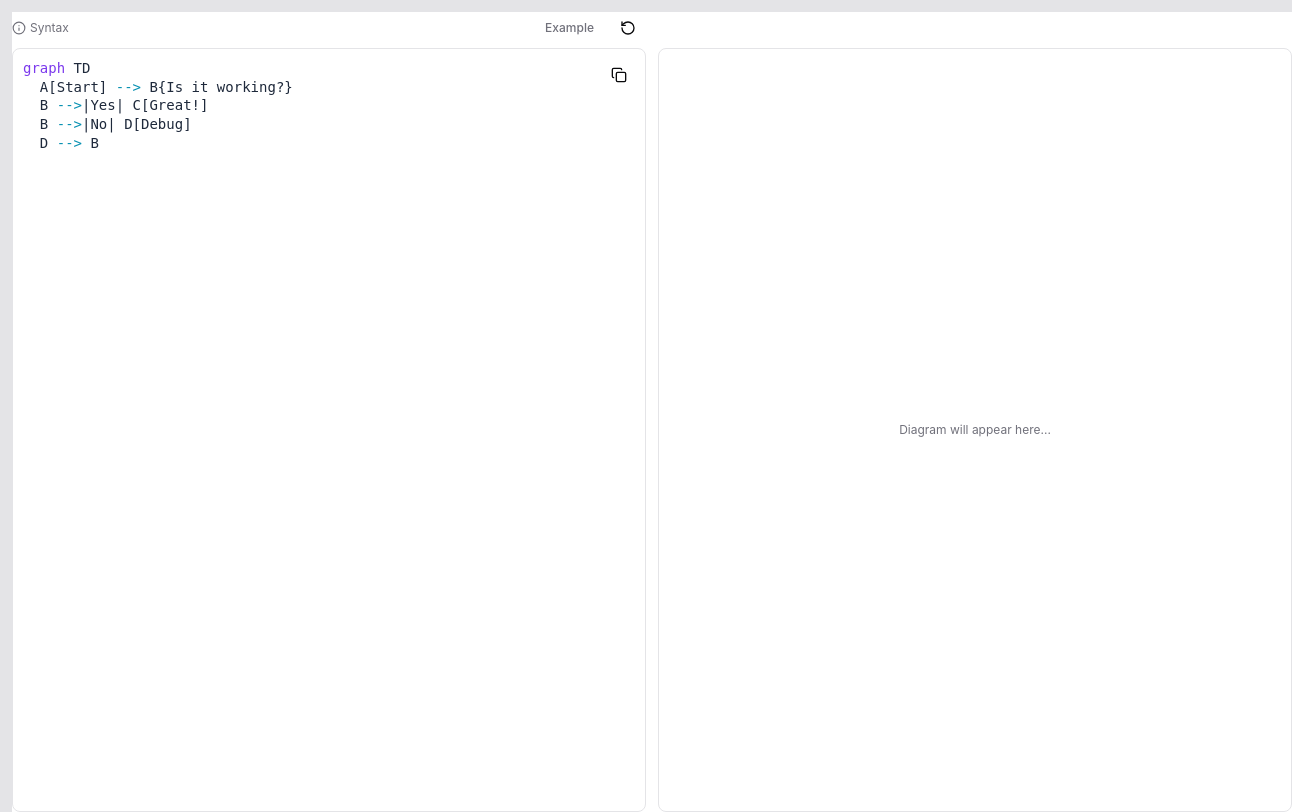
Test case: invalid mermaid syntax shows error badge and error overlay
Replace the text in the text box with "this is not valid mermaid syntax %%@@##": x=329, y=430 left=13, top=49, right=645, bottom=811
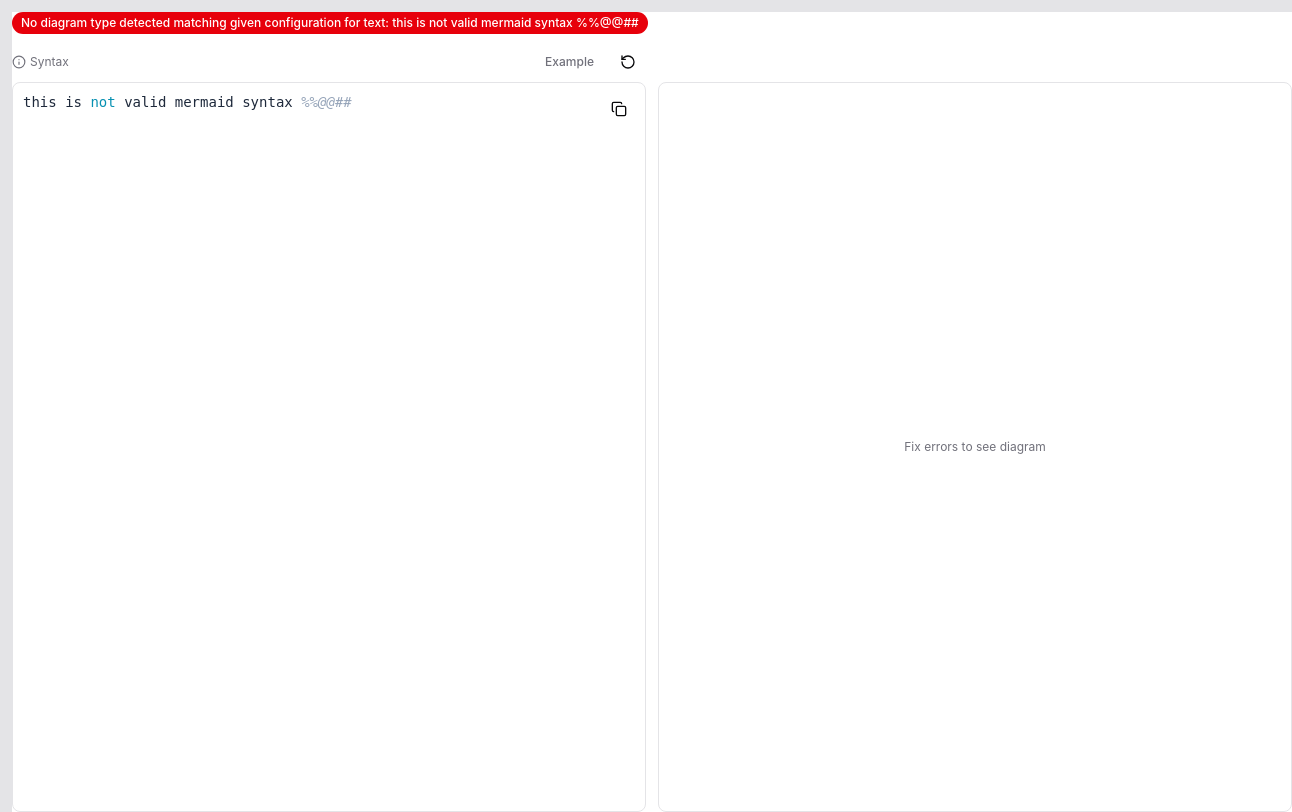
Expected: the text "Fix errors to see diagram" is shown, left=904, top=439, right=1046, bottom=455
